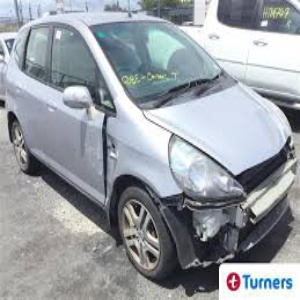bumper: (164, 199, 247, 263)
